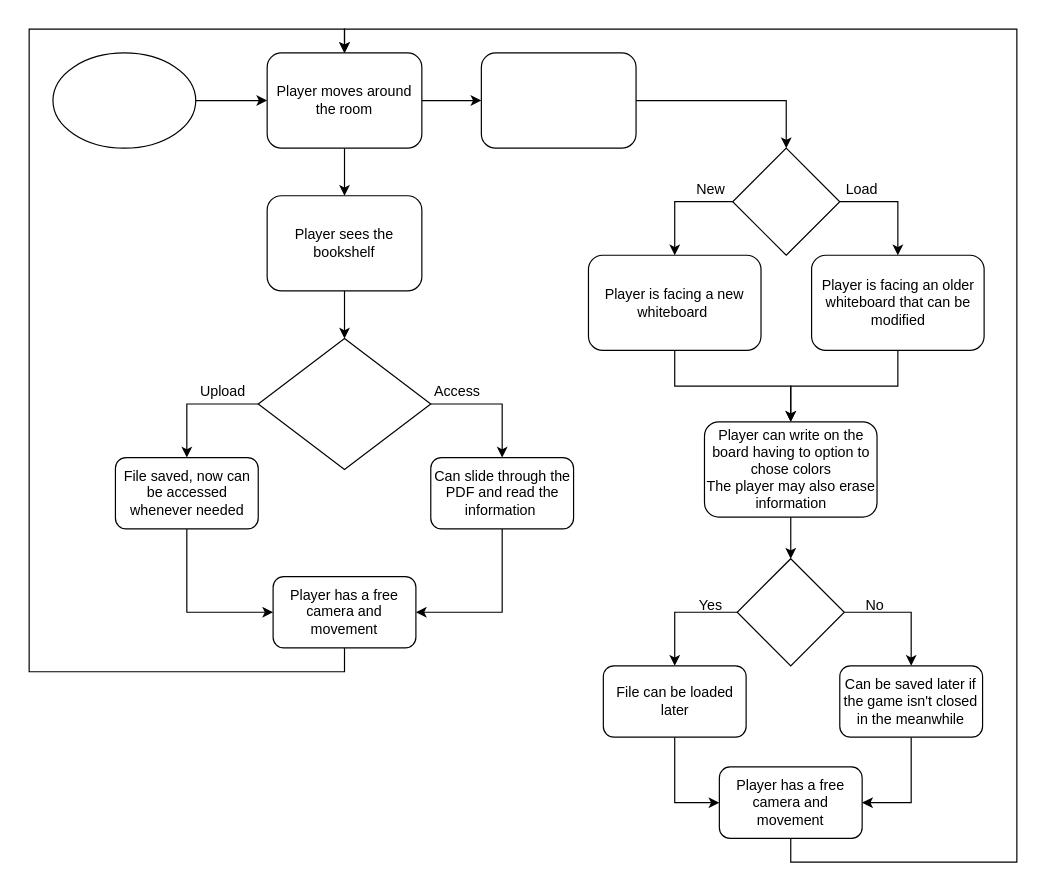
The diagram is 1047 pixels wide and 893 high, and some of its shapes have lost their labels. Each missing label, with the centre of its shape:
"Access/Upload PDF file?" goes at pixel 344 403.
"New/Load whiteboard" goes at pixel 785 201.
"Player sees the whiteboard" goes at pixel 558 100.
"Save the WB?" goes at pixel 790 612.
"START" goes at pixel 124 100.
